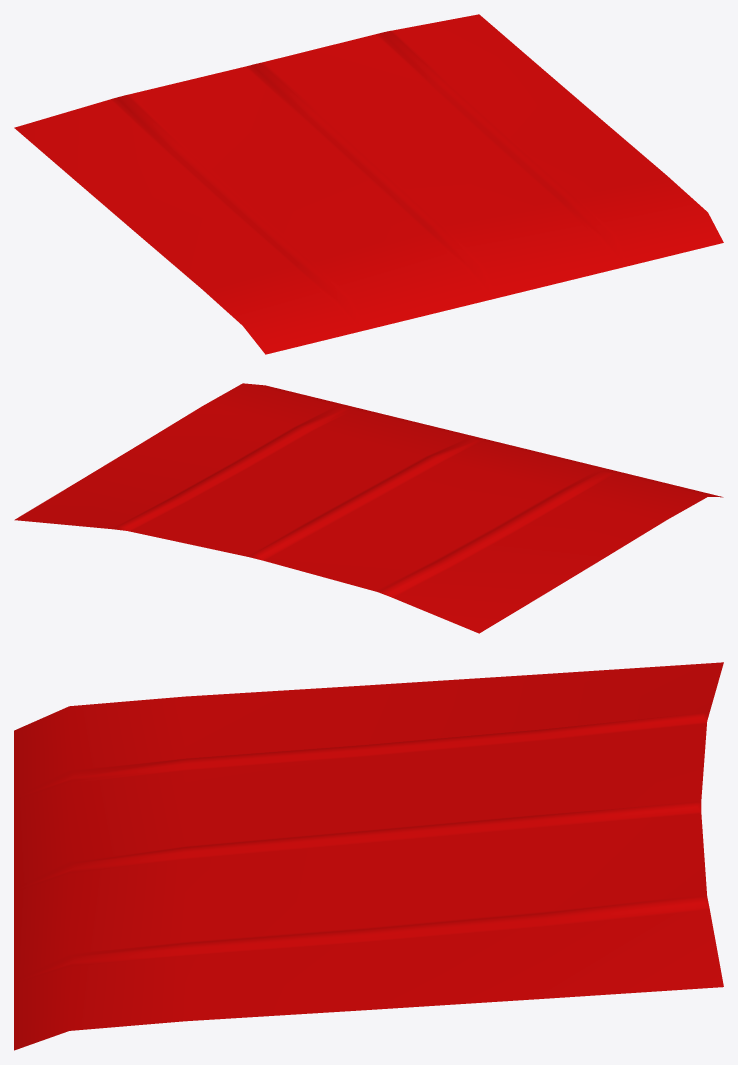
3 renders of one model, top to bottom at view 1: azimuth 30°, elevation 25°; view 2: azimuth 150°, elevation 25°; view 3: azimuth 270°, elevation 25°, orthographic. The views are drawn at different scales.
Parts seen in each view (by area): view 1: kapota; view 2: kapota; view 3: kapota.
Boxes of the visible parts, box(x1,y1,x2,y2) form: kapota: box(14, 14, 723, 354); kapota: box(14, 383, 723, 633); kapota: box(14, 662, 723, 1050).
Size of the model in its own units: 1.52 by 0.1878 by 1.4.
Materials: 1 (1 with a texture image).
